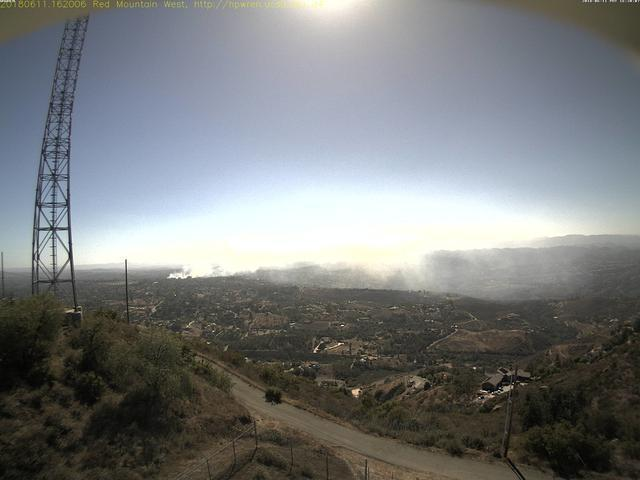Smoke: (165, 239, 459, 287)
